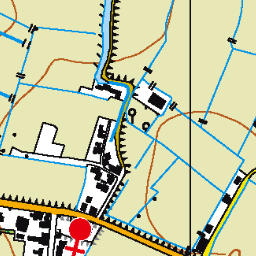church: (60, 215, 93, 256)
